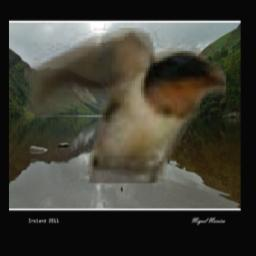Swallow: (25, 28, 227, 183)
